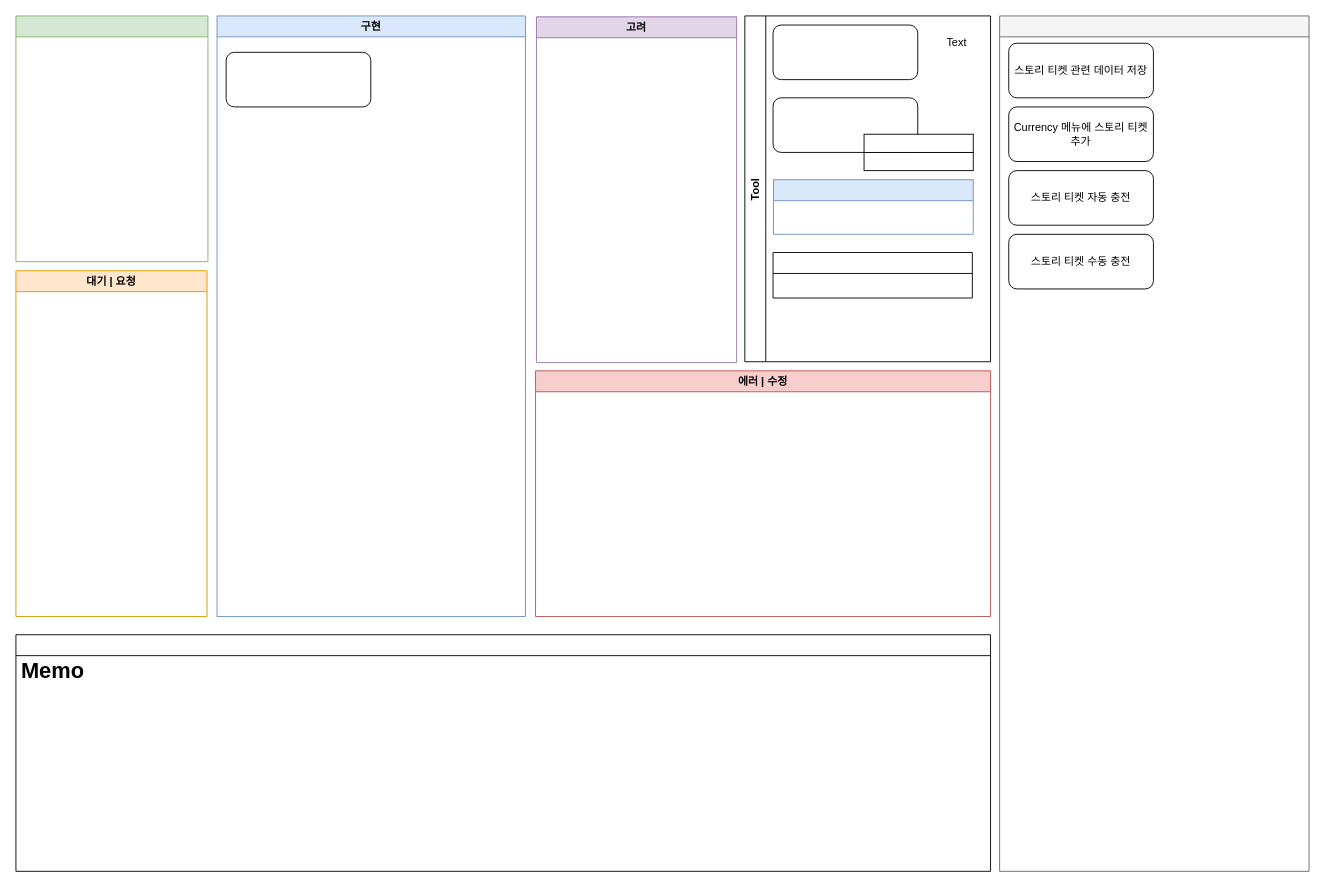
Some shapes in this 1325 by 887 pixel diagram are drawn without their labels. Here are the shapes that lost their labels. From the top down, the box of each, then its label:
(225, 51, 371, 107): 스토리 티켓 소모
(15, 15, 208, 262): 분석 | 논의
(999, 15, 1309, 871): 폐기 | 완료
(15, 634, 991, 871): My Comment
